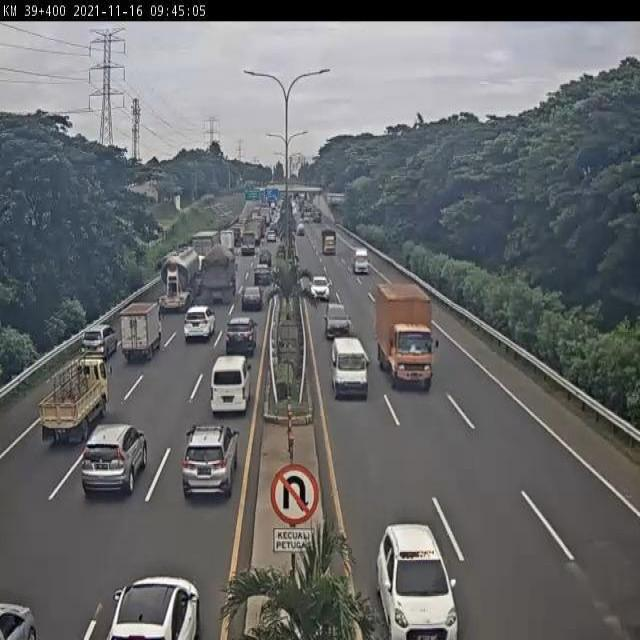car: (376, 525, 456, 640), (82, 423, 148, 496), (181, 424, 239, 497), (331, 337, 369, 400), (80, 325, 115, 359), (224, 319, 256, 356), (182, 304, 214, 340), (325, 303, 352, 341), (241, 285, 263, 315), (310, 275, 332, 303), (252, 265, 271, 287)
truck: (39, 360, 115, 444), (376, 283, 434, 392), (156, 244, 201, 315), (196, 248, 236, 309), (120, 303, 161, 361), (210, 355, 250, 412), (190, 229, 222, 279)
